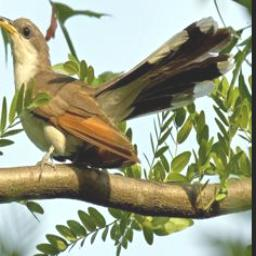Cuckoo: (0, 16, 237, 173)
